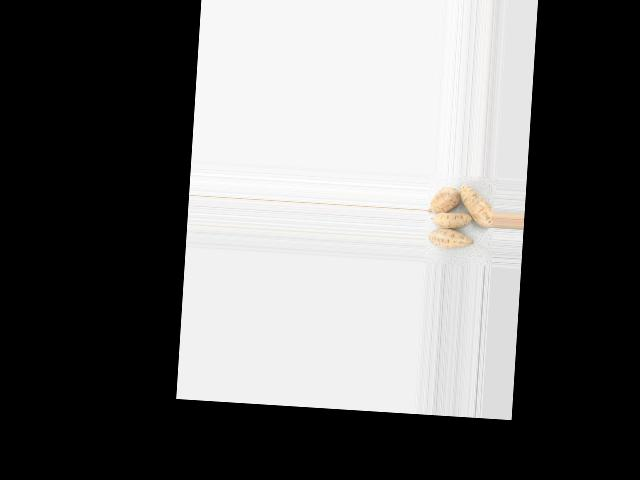sweet_potato: (457, 180, 496, 232)
